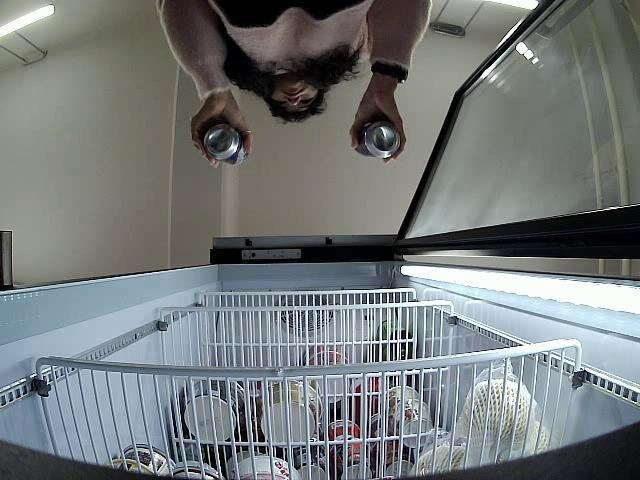14_welchsGrape: (204, 120, 247, 166), (352, 121, 402, 158)
